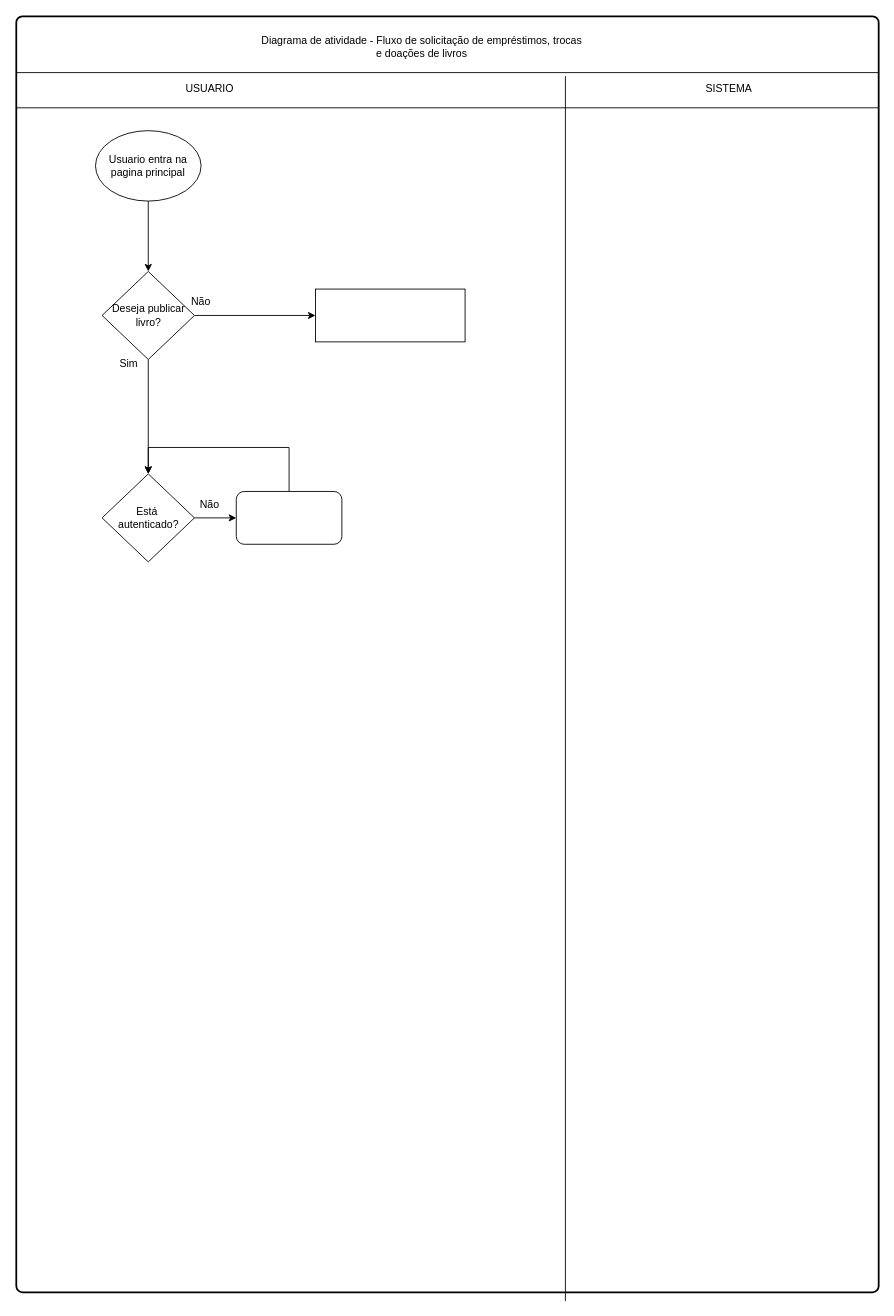
This 894x1316 diagram has some shape labels left out. Each missing label, with the centre of its shape:
Ir para fluxo de solicitação de livro: the point at 390,315
Ir para página de autenticação: the point at 288,517
